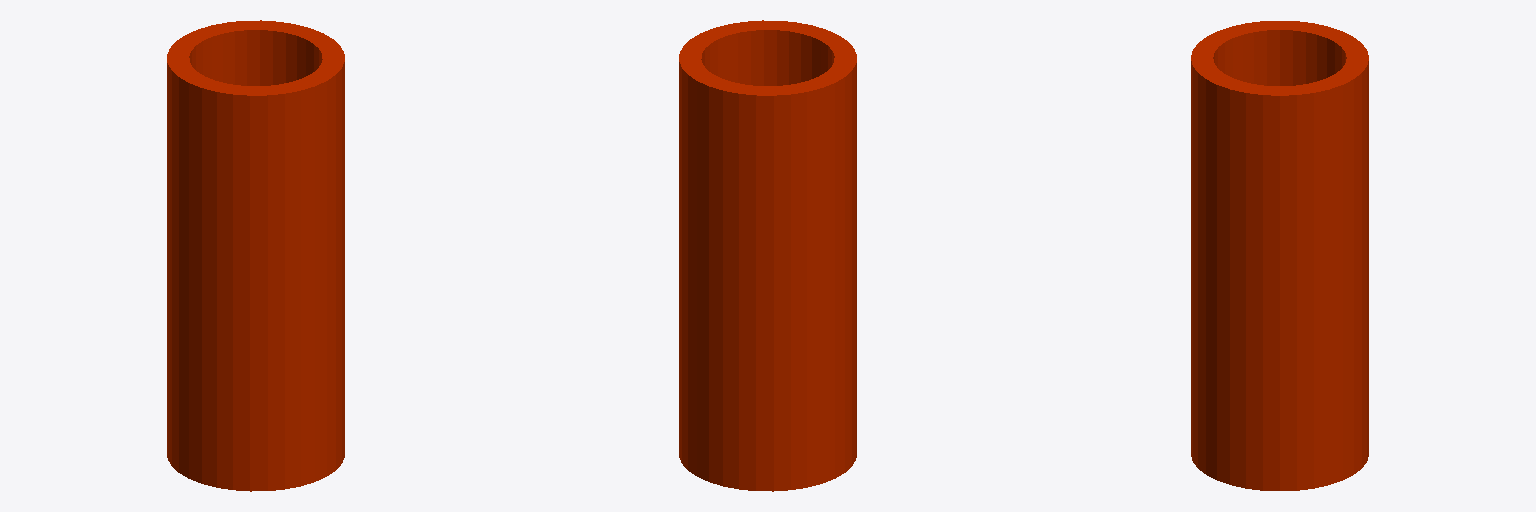
URDF robot description (cylinder):
<?xml version="1.0"?>
<robot name="cylinder">
  <link name="cylinder">
    <inertial>
      <mass value="1.0"/>
      <inertia ixx="0.000247"
                 iyy="0.000247"
                 izz="0.000078"
                 ixy="0" iyz="0" ixz="0"/>
    </inertial>
    <visual>
      <geometry>
          <mesh filename="package://edo/meshes/visual/cylinder.dae"/>
      </geometry>
    </visual>
    <collision>
      <geometry>
          <mesh filename="package://edo/meshes/visual/cylinder.dae"/>
      </geometry>
    </collision>
  </link>
  <gazebo>
    <static>true</static>
  </gazebo>
</robot>

--- Render facts (derived) ---
The picture shows the robot from 3 angles, left to right: view 1: azimuth 30°, elevation 25°; view 2: azimuth 150°, elevation 25°; view 3: azimuth 270°, elevation 25°; orthographic projection.
Model cylinder with 1 links and 0 joints (none), rooted at cylinder, posed every joint at zero.
Links seen in each view (by area): view 1: cylinder; view 2: cylinder; view 3: cylinder.
Link boxes in pixels (bbox=[...]): cylinder: bbox=[167, 20, 344, 491]; cylinder: bbox=[679, 20, 856, 491]; cylinder: bbox=[1191, 21, 1368, 490].
Bounding box of the posed robot: 0.0203 × 0.0203 × 0.0498 m (x, y, z).
Meshes: 1 distinct files referenced, 1 mesh visuals loaded (1 Collada DAE).
